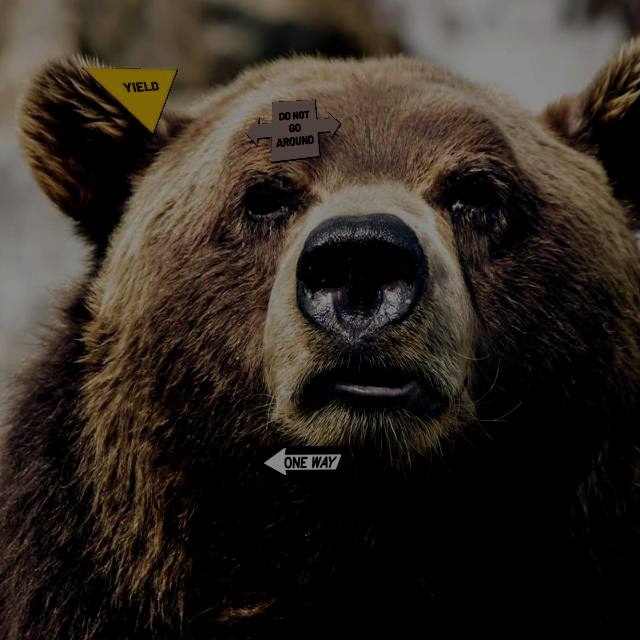DO_NOT_GO_AROUND: (244, 99, 341, 163)
ONE_WAY_ left: (254, 445, 351, 477)
YIELD: (81, 67, 178, 135)
